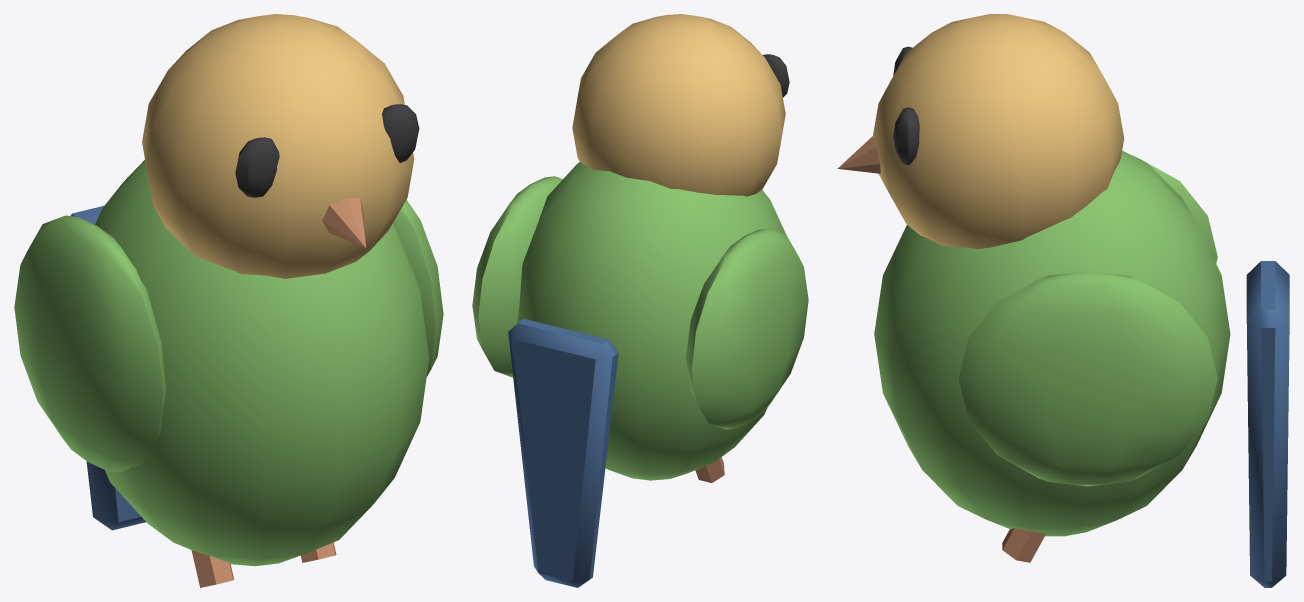
Rendered from budgie.glb.
The picture shows the model from 3 angles, left to right: view 1: azimuth 30°, elevation 25°; view 2: azimuth 150°, elevation 25°; view 3: azimuth 270°, elevation 25°; orthographic projection. The views are drawn at different scales.
Visible parts, largest first — view 1: budgie.001, poster_c, shoes, pot, sign_blue; view 2: budgie.001, poster_c, sign_blue, shoes, pot; view 3: budgie.001, poster_c, sign_blue, pot, shoes.
Boxes of the visible parts, <box> form: budgie.001: <box>14,160,443,566</box>; poster_c: <box>142,14,414,278</box>; shoes: <box>235,104,419,197</box>; pot: <box>191,197,366,587</box>; sign_blue: <box>70,206,145,530</box>; budgie.001: <box>472,162,808,480</box>; poster_c: <box>572,14,785,196</box>; sign_blue: <box>508,319,618,587</box>; shoes: <box>763,54,789,97</box>; pot: <box>695,457,724,482</box>; budgie.001: <box>874,150,1230,536</box>; poster_c: <box>873,14,1124,249</box>; sign_blue: <box>1246,261,1289,587</box>; pot: <box>837,136,1045,562</box>; shoes: <box>893,46,919,165</box>.
Bounding box in the file's own units: 0.1 × 0.17 × 0.1257.
